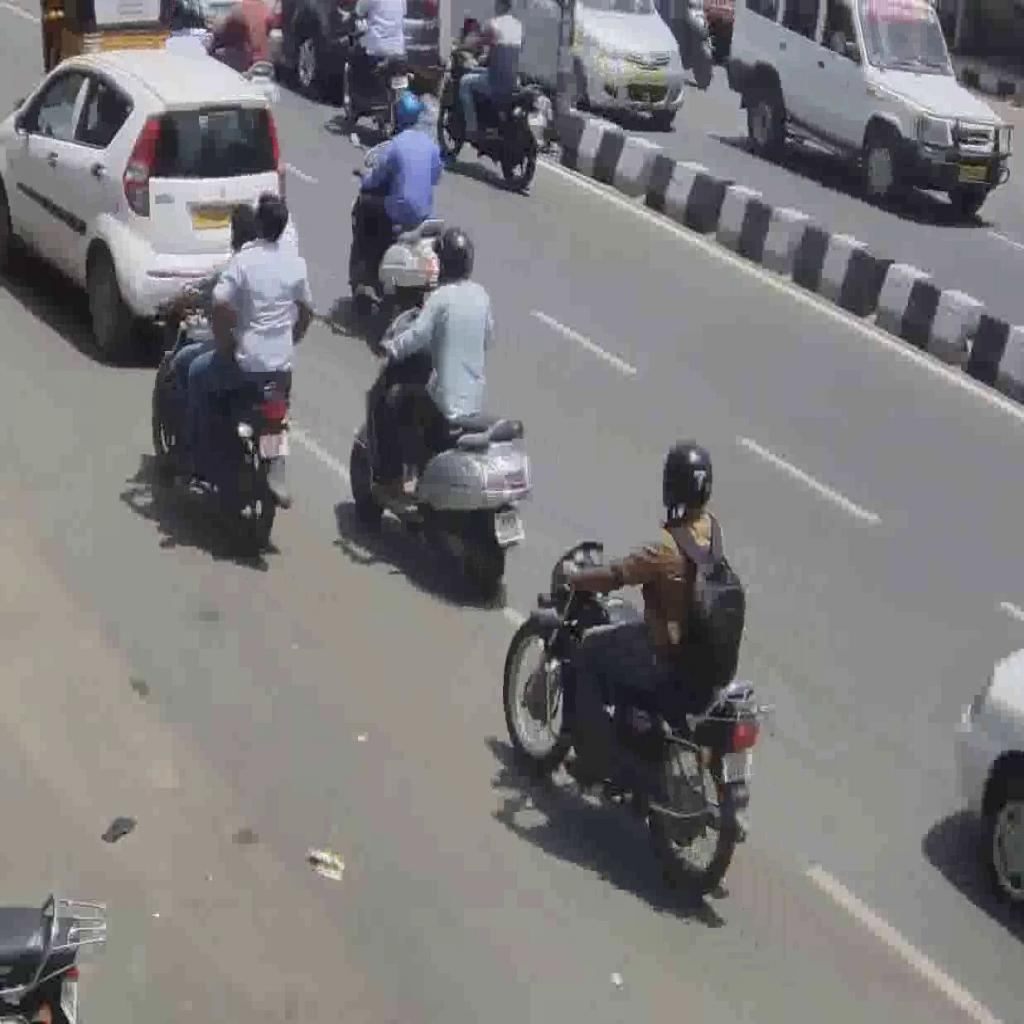helmet: (501, 534, 763, 898), (350, 304, 534, 595), (150, 276, 294, 550), (437, 32, 549, 190), (348, 139, 444, 315), (336, 6, 410, 134)
